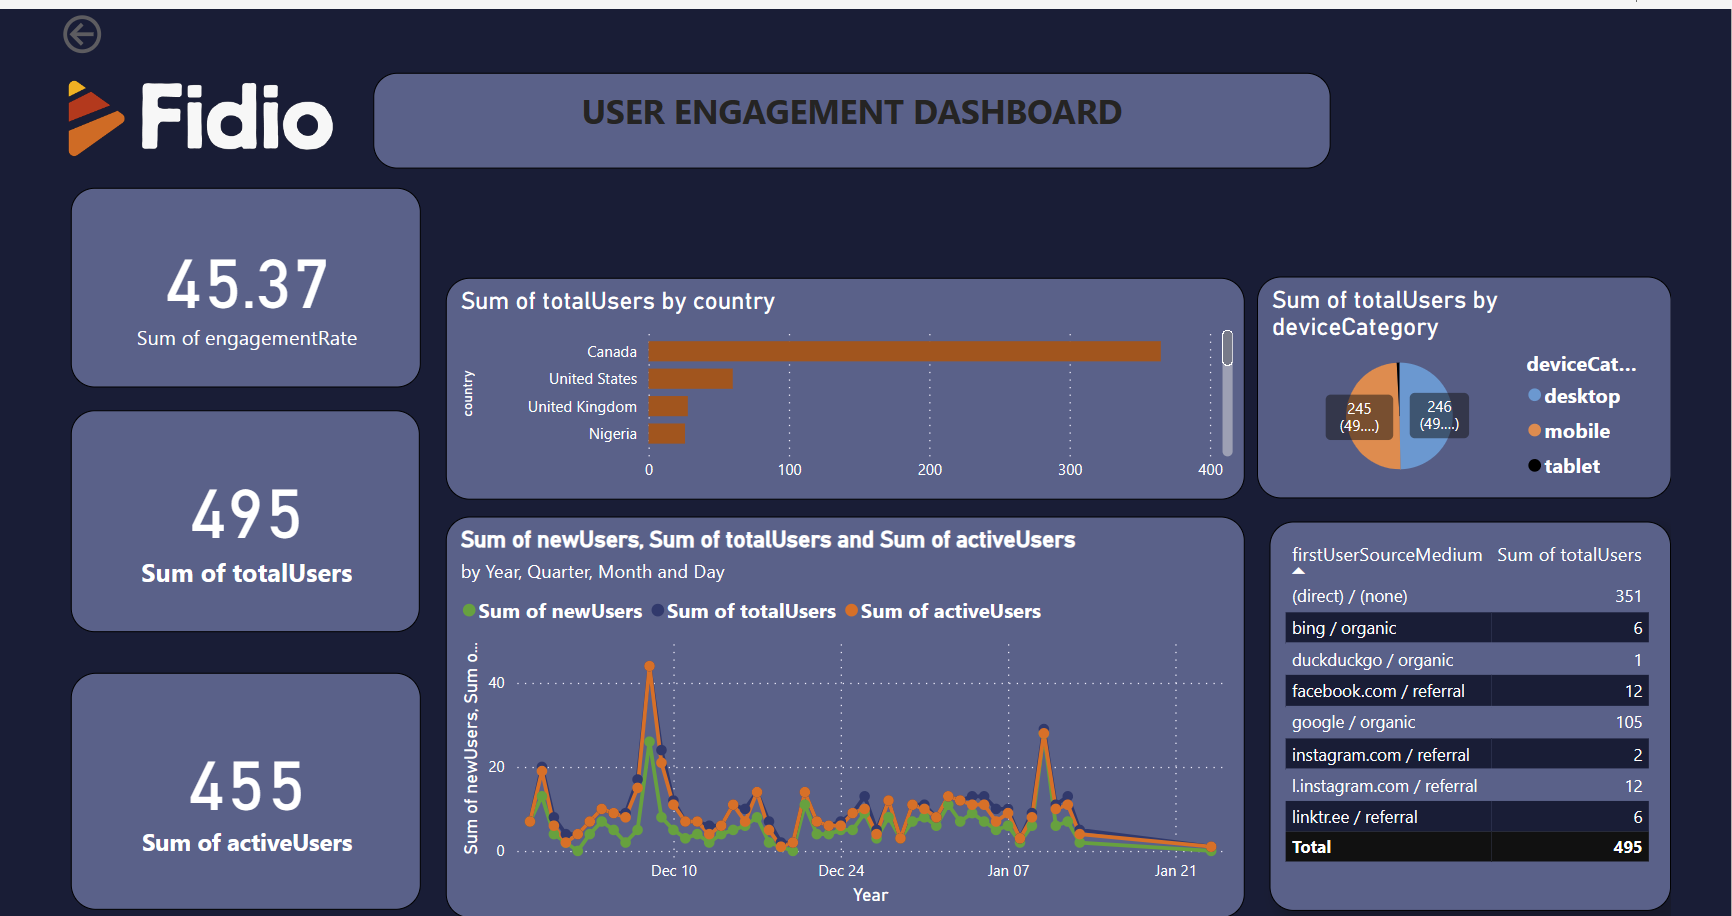

The page's visual inventory and layout, read from the dashboard file:
{"tool":"powerbi","page":{"name":"Page 1","canvas":[1280,720],"ordinal":0},"visuals":[{"type":"pieChart","fields":{"Category":["fidio_website.deviceCategory"],"Y":["Sum(fidio_website.totalUsers)"]},"box":[951.4,212.5,328.9,175.9],"z":0},{"type":"image","box":[0,50.8,227.8,74.1],"z":1000},{"type":"textbox","box":[250.4,50.1,759.2,75.8],"z":2000},{"type":"lineChart","fields":{"Category":["fidio_website.date.Variation.Date Hierarchy.Year","fidio_website.date.Variation.Date Hierarchy.Quarter","fidio_website.date.Variation.Date Hierarchy.Month","fidio_website.date.Variation.Date Hierarchy.Day"],"Y":["Sum(fidio_website.newUsers)","Sum(fidio_website.totalUsers)","Sum(fidio_website.activeUsers)"]},"box":[308.8,402.1,634,318.4],"z":3000},{"type":"card","fields":{"Values":["Sum(fidio_website.totalUsers)"]},"box":[11,318.4,277.2,175.6],"z":4000},{"type":"card","fields":{"Values":["Sum(fidio_website.activeUsers)"]},"box":[10.8,526.5,277.4,188.1],"z":5000},{"type":"actionButton","box":[0,0,100,40],"z":6000},{"type":"tableEx","fields":{"Values":["fidio_website.firstUserSourceMedium","Sum(fidio_website.totalUsers)"]},"box":[961.9,406.2,318.4,308.8],"z":7000},{"type":"clusteredBarChart","fields":{"Category":["fidio_website.country"],"Y":["Sum(fidio_website.totalUsers)"]},"box":[308.8,212.7,634,175.6],"z":8000},{"type":"card","fields":{"Values":["Sum(fidio_website.engagementRate)"]},"box":[10.8,142.1,277.4,158.3],"z":9000}]}

Visuals, with their boxes on the page's 1280x720 design canvas (x1, y1, x2, y2). These are canvas units, not pixel positions in the 1732x916 screenshot, which may show the page scaled, cropped or inside an application window:
pieChart - fidio_website.deviceCategory x Sum(fidio_website.totalUsers): locate(951, 212, 1280, 388)
image: locate(0, 51, 228, 125)
textbox: locate(250, 50, 1010, 126)
lineChart - fidio_website.date.Variation.Date Hierarchy.Year x fidio_website.date.Variation.Date Hierarchy.Quarter: locate(309, 402, 943, 720)
card - Sum(fidio_website.totalUsers): locate(11, 318, 288, 494)
card - Sum(fidio_website.activeUsers): locate(11, 526, 288, 715)
actionButton: locate(0, 0, 100, 40)
tableEx - fidio_website.firstUserSourceMedium x Sum(fidio_website.totalUsers): locate(962, 406, 1280, 715)
clusteredBarChart - fidio_website.country x Sum(fidio_website.totalUsers): locate(309, 213, 943, 388)
card - Sum(fidio_website.engagementRate): locate(11, 142, 288, 300)
